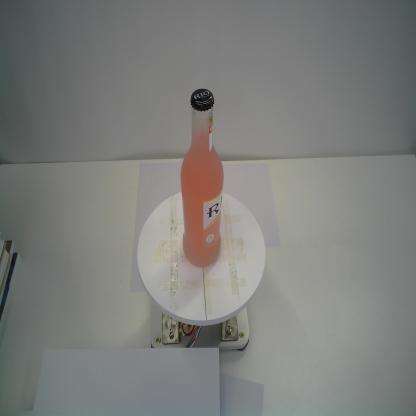Alcohol: (180, 87, 224, 268)
